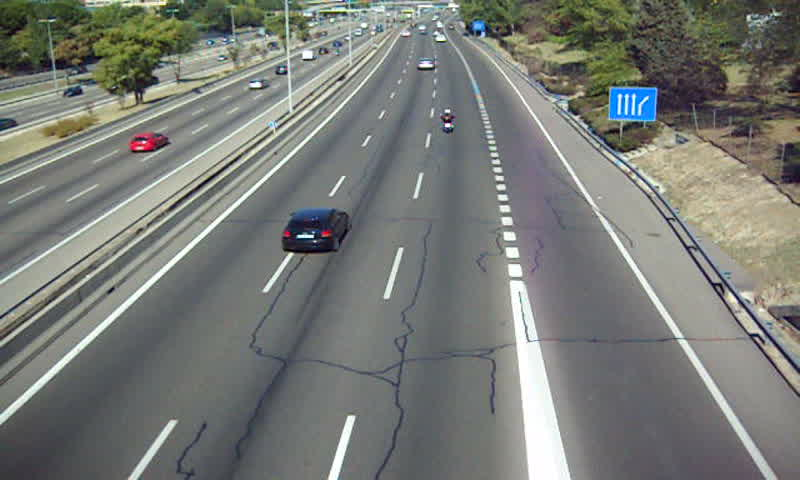car: (280, 207, 354, 254), (417, 58, 435, 72)
motorcycle: (440, 109, 457, 136)
